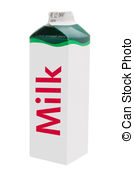carton: (21, 4, 98, 172)
